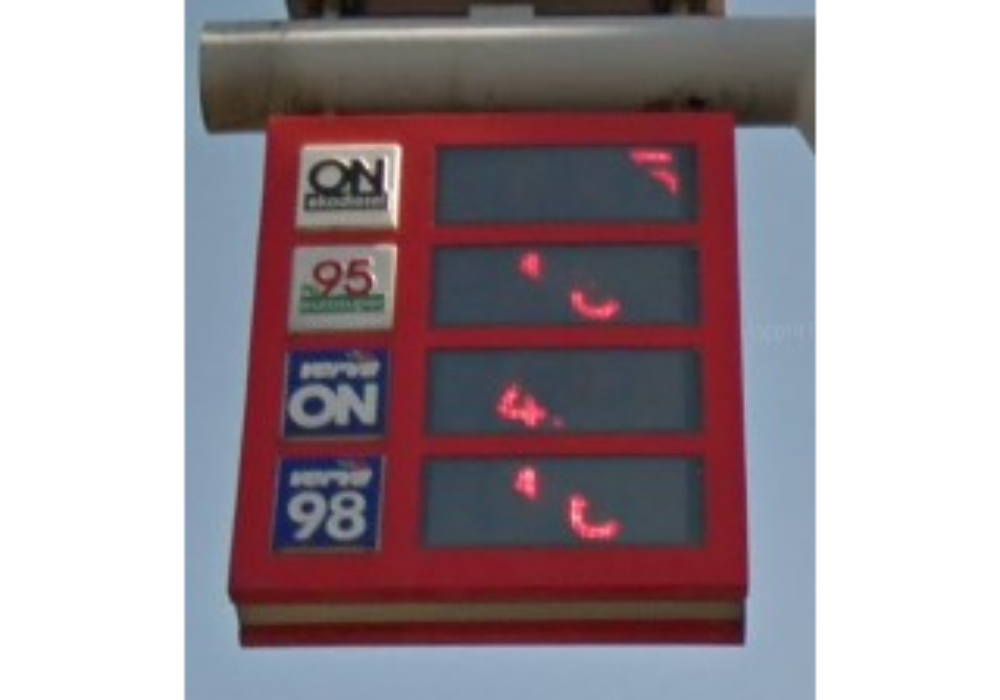ON: (293, 138, 406, 233), (283, 345, 390, 442)
PB95: (284, 239, 403, 334)
PB98: (271, 450, 388, 557)
